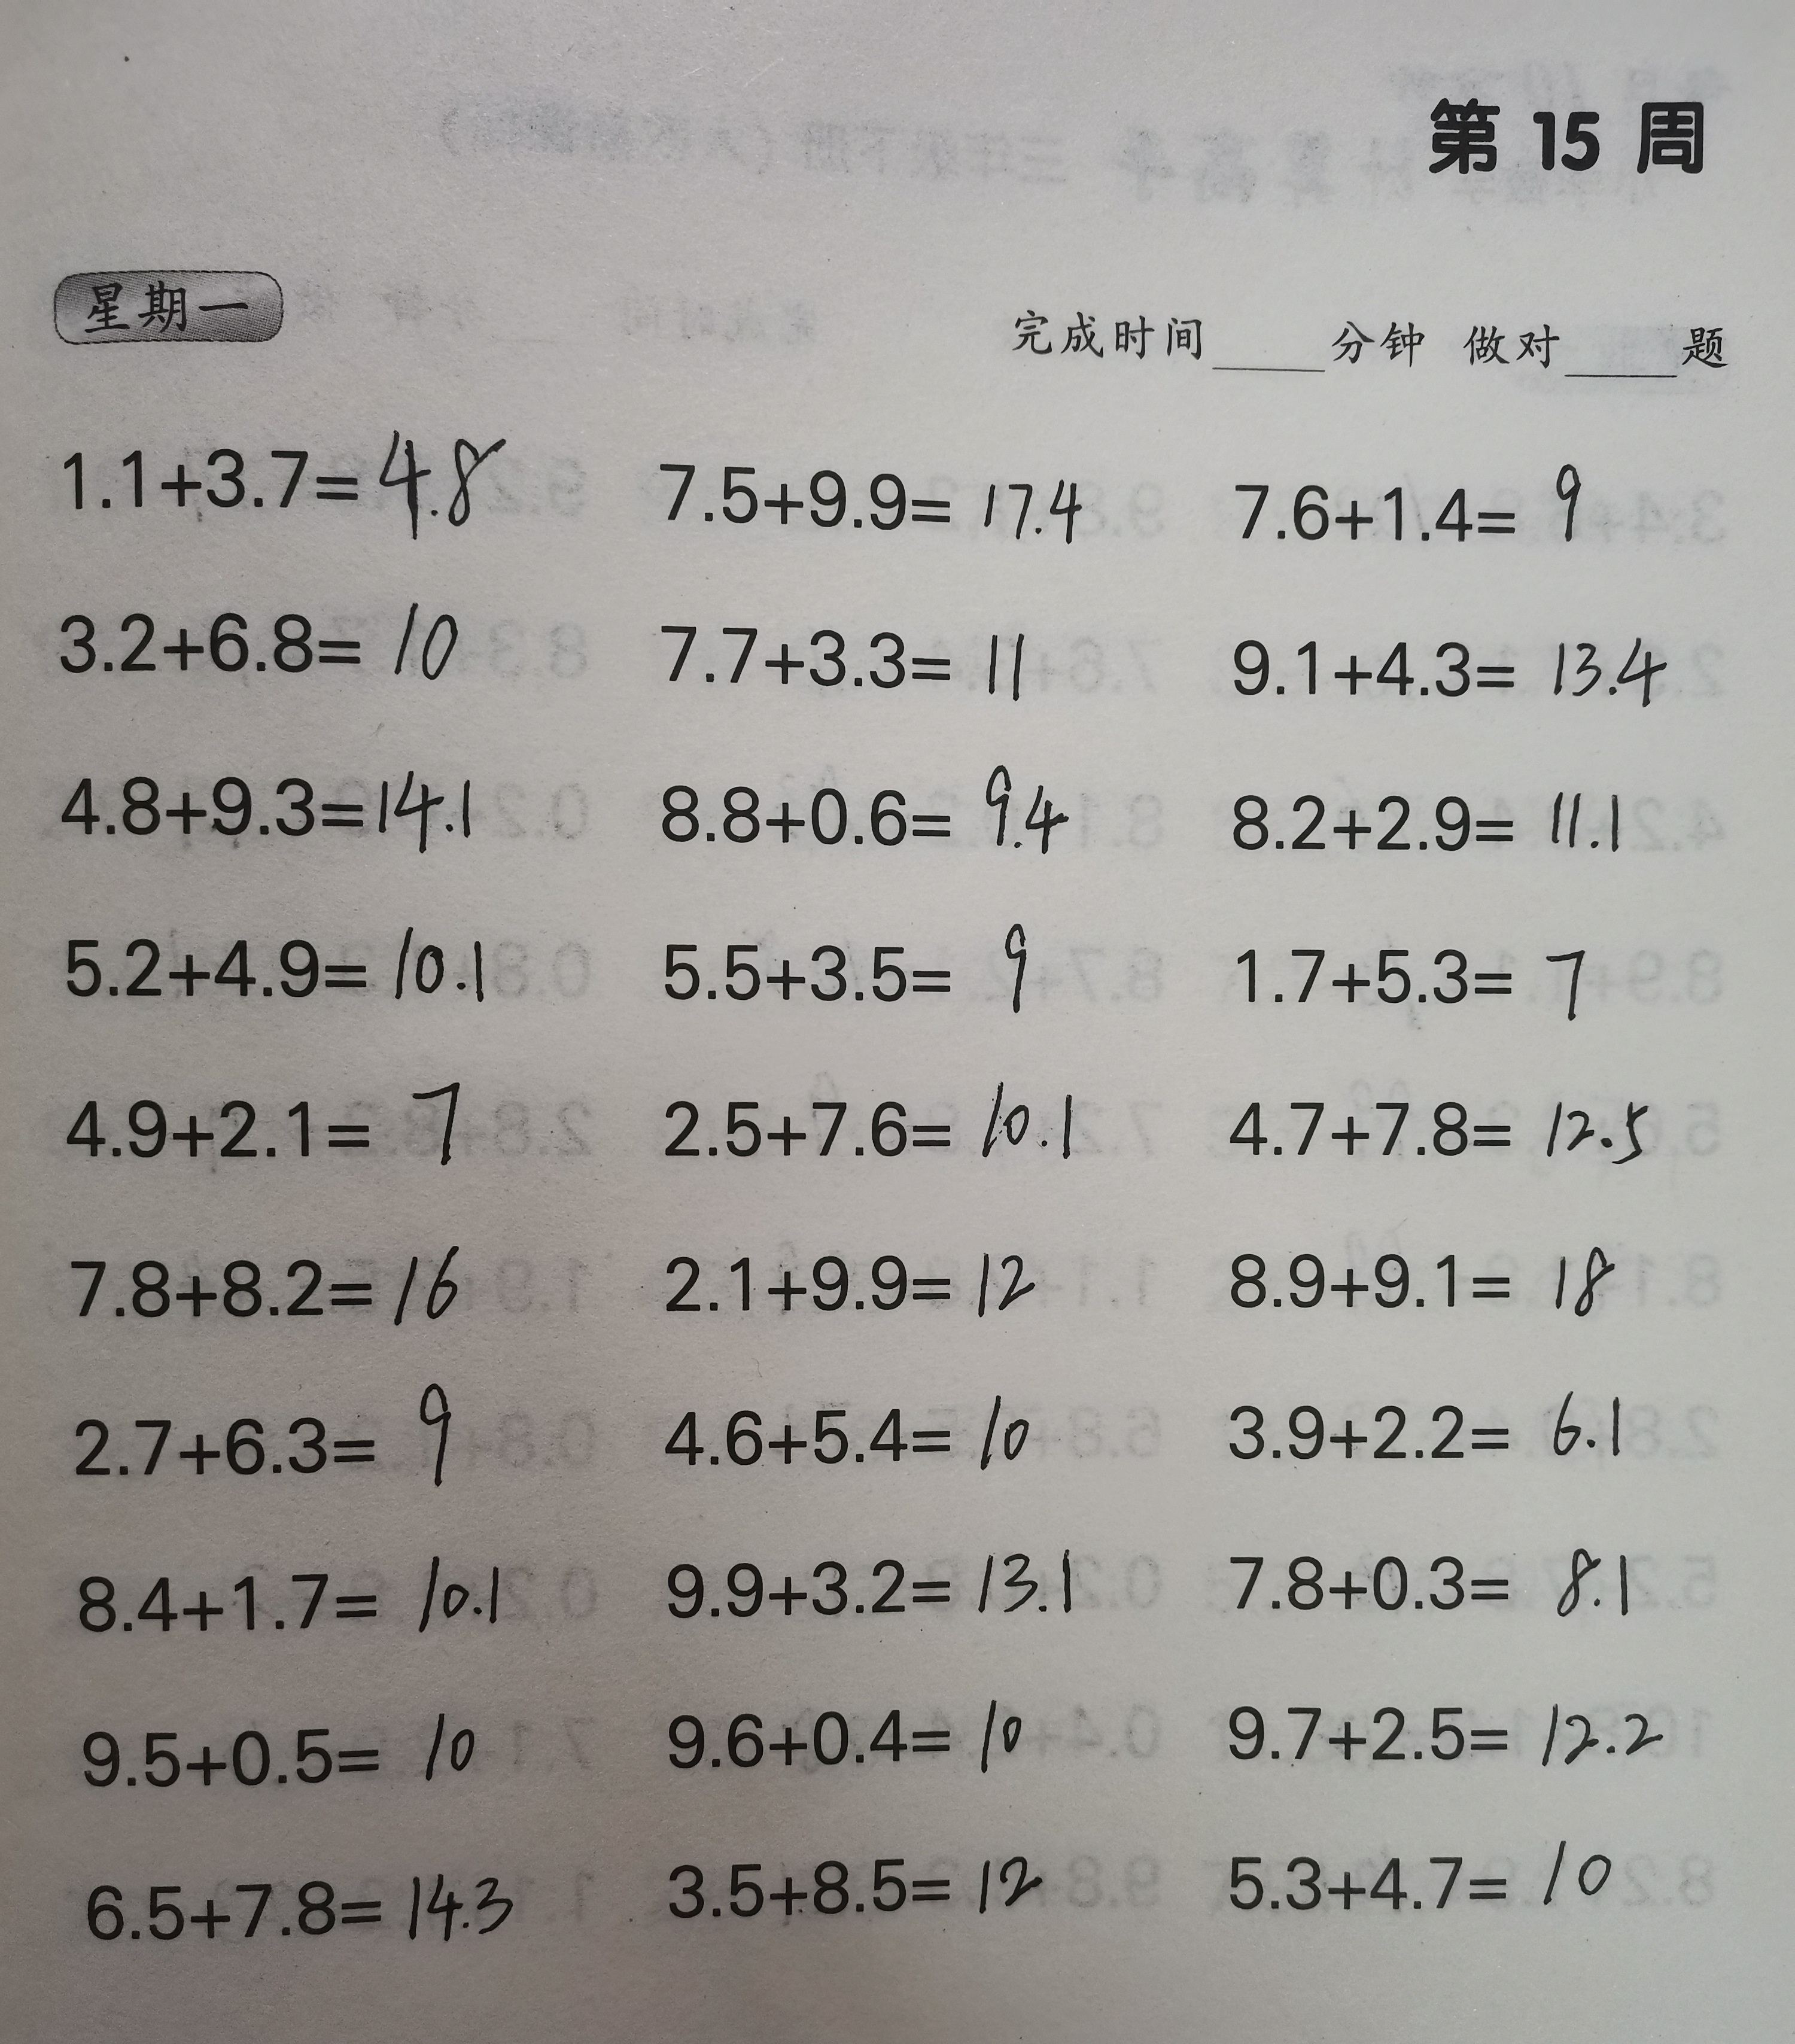equation: (50, 410, 502, 546), (50, 1062, 474, 1191), (648, 761, 1093, 878), (646, 436, 1090, 549), (56, 1377, 473, 1495), (52, 1225, 480, 1335), (1215, 1530, 1649, 1636), (1225, 435, 1599, 556), (75, 1853, 525, 1952), (650, 1072, 1077, 1177), (68, 1545, 520, 1642), (1215, 1684, 1670, 1780), (646, 1536, 1091, 1634), (52, 761, 485, 860), (1225, 622, 1672, 718), (653, 911, 1051, 1017), (1218, 1078, 1649, 1175), (1225, 918, 1600, 1029), (648, 598, 1034, 706), (38, 594, 466, 690), (1213, 1227, 1621, 1326), (1220, 766, 1639, 862), (1213, 1385, 1637, 1479), (52, 918, 500, 1005), (648, 1384, 1048, 1481), (648, 1686, 1043, 1782), (1218, 1827, 1633, 1917), (71, 1707, 490, 1795), (648, 1234, 1058, 1324), (655, 1844, 1072, 1931)
